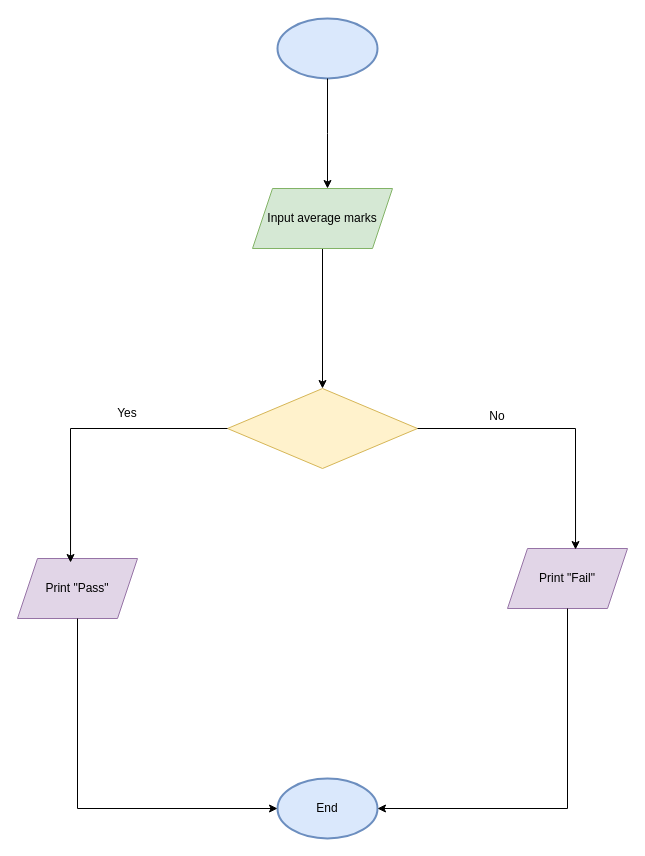
Some shapes in this 645 by 856 pixel diagram are drawn without their labels. Each missing label, with the centre of its shape:
Is average marks>=50?: (x=322, y=428)
Start: (x=327, y=48)
